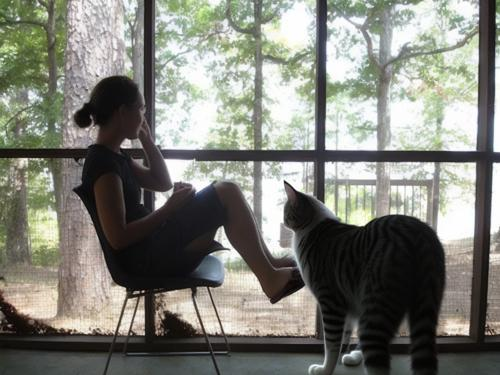cat: (284, 179, 445, 375)
chair: (70, 184, 235, 375)
person: (76, 74, 323, 299)
person/foot: (257, 258, 322, 304), (275, 245, 319, 268)
person/hand: (166, 182, 195, 211), (139, 119, 152, 144)
person/head: (89, 75, 145, 140)
